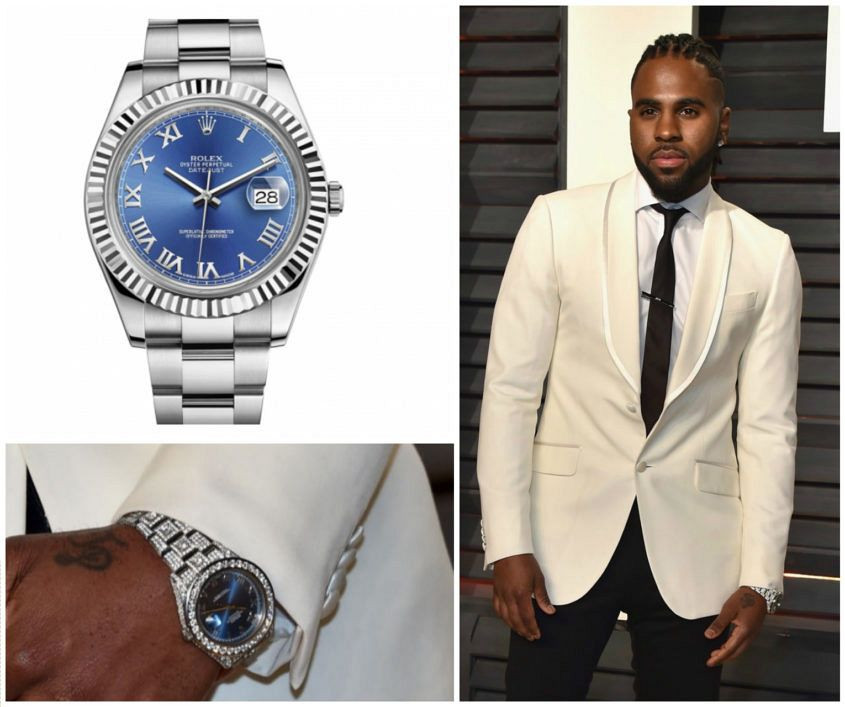clock: (114, 99, 303, 290), (198, 569, 271, 652)
